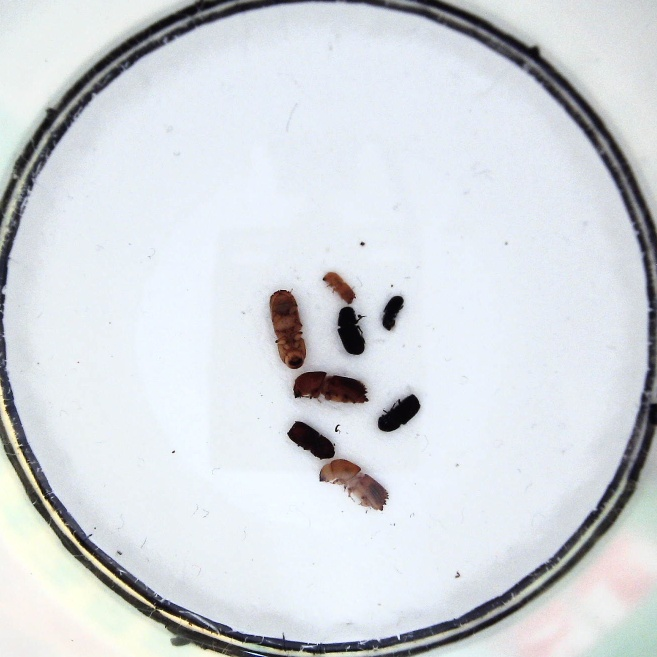acuminatus: (322, 271, 355, 305)
armandi: (336, 306, 368, 356)
boerner: (318, 458, 388, 514), (269, 289, 307, 369), (290, 371, 369, 407)
coleoptera: (380, 295, 404, 332)
linnaeus: (288, 421, 335, 460), (376, 393, 420, 433)
